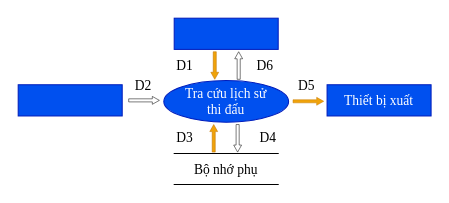
The diagram is 449 pixels wide and 203 high, and some of its shapes have lost their labels. Here are the shapes that lost their labels. From the top down, the centre of each, then its label:
At point 225,33: "Người dùng".
At point 69,100: "Thiết bị nhập".
